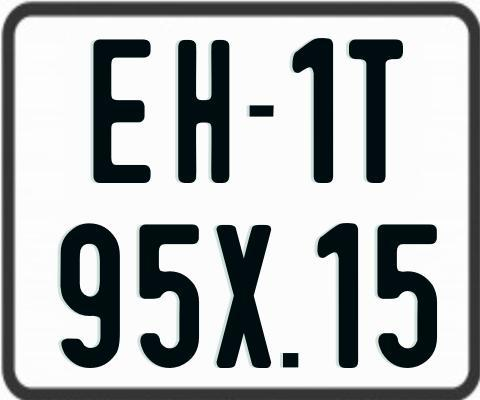1: (317, 223, 361, 374), (292, 35, 334, 182)
5: (137, 222, 200, 370), (375, 223, 435, 367)
9: (60, 223, 124, 374)
E: (93, 39, 151, 187)
H: (177, 39, 229, 185)
T: (346, 36, 403, 185)
X: (216, 222, 273, 371)
